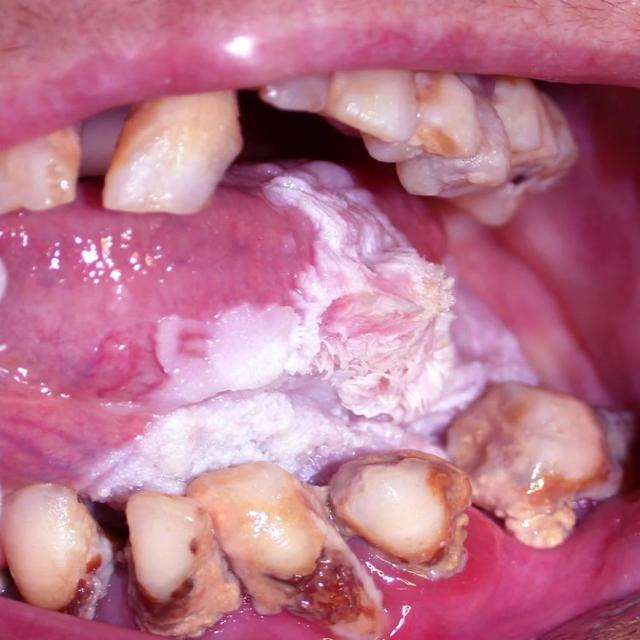leukoplakia-like-detection: (2, 154, 535, 507)
processing_area: (0, 141, 639, 501)
